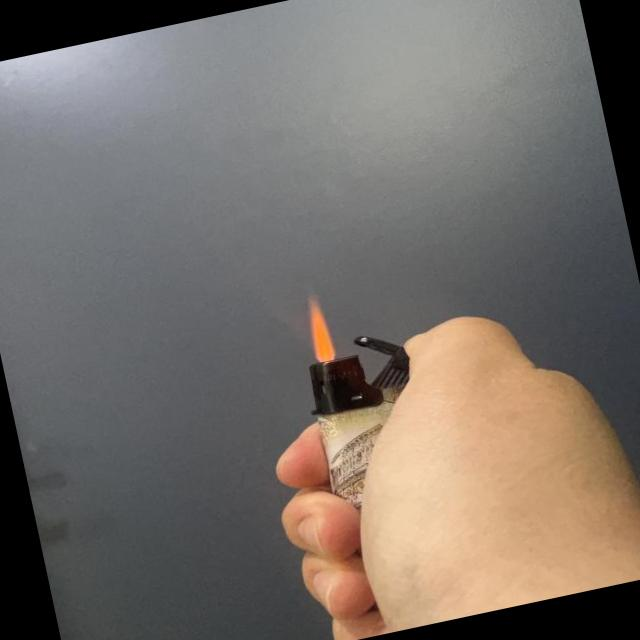Fire: (296, 288, 342, 366)
